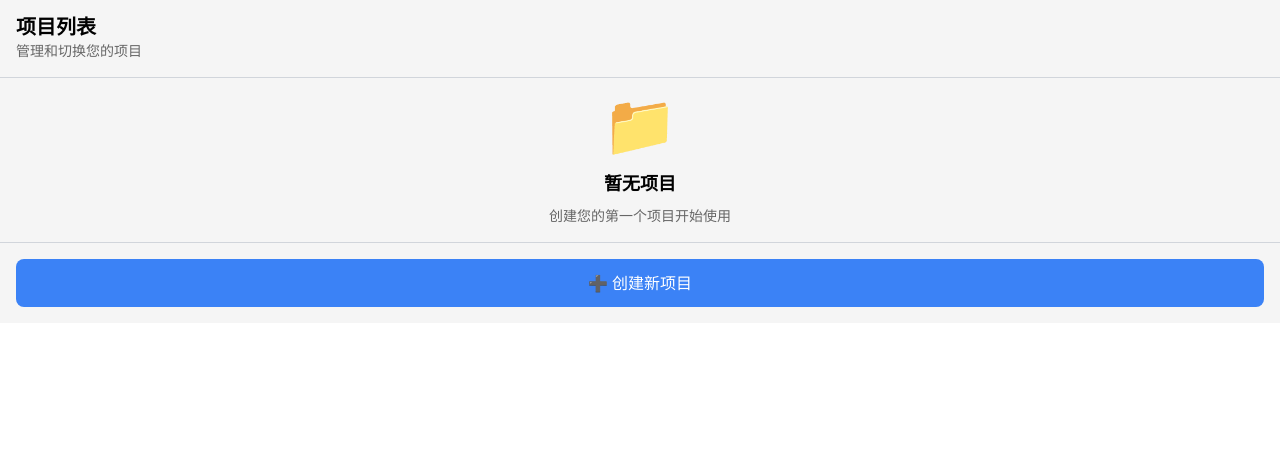
ProjectPanel › 创建项目 › 应该显示创建表单
What coordinates should you click on to do the following:
click the button "➕ 创建新项目"
I would click on:
 (640, 283)
Its box is [16,259,1264,307].
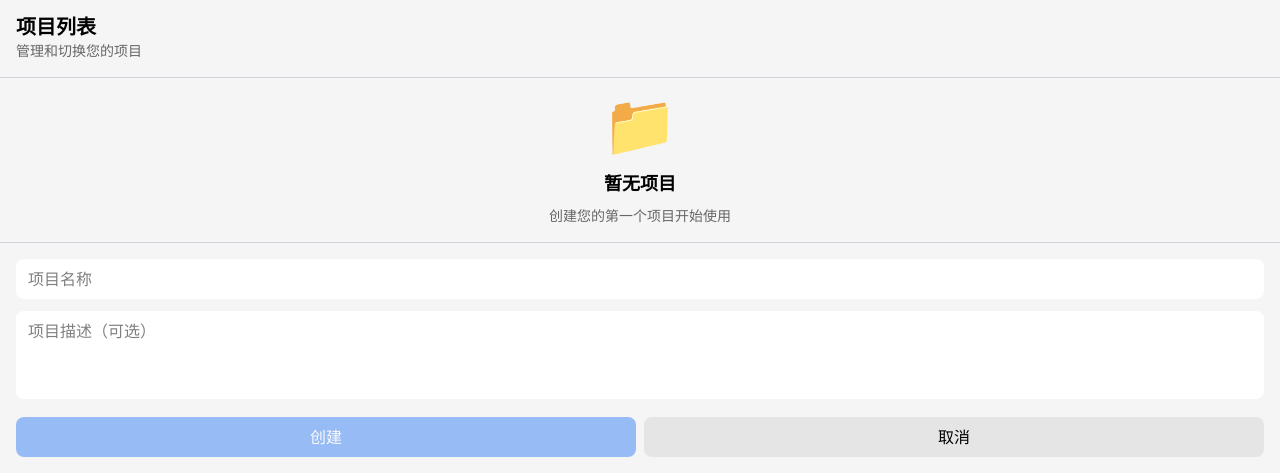
Result: the field with placeholder "项目名称" is shown at [16,259,1264,299]
Result: the text box with placeholder "项目描述（可选）" is shown at [16,311,1264,399]
Result: the button "取消" is shown at [644,417,1264,457]
